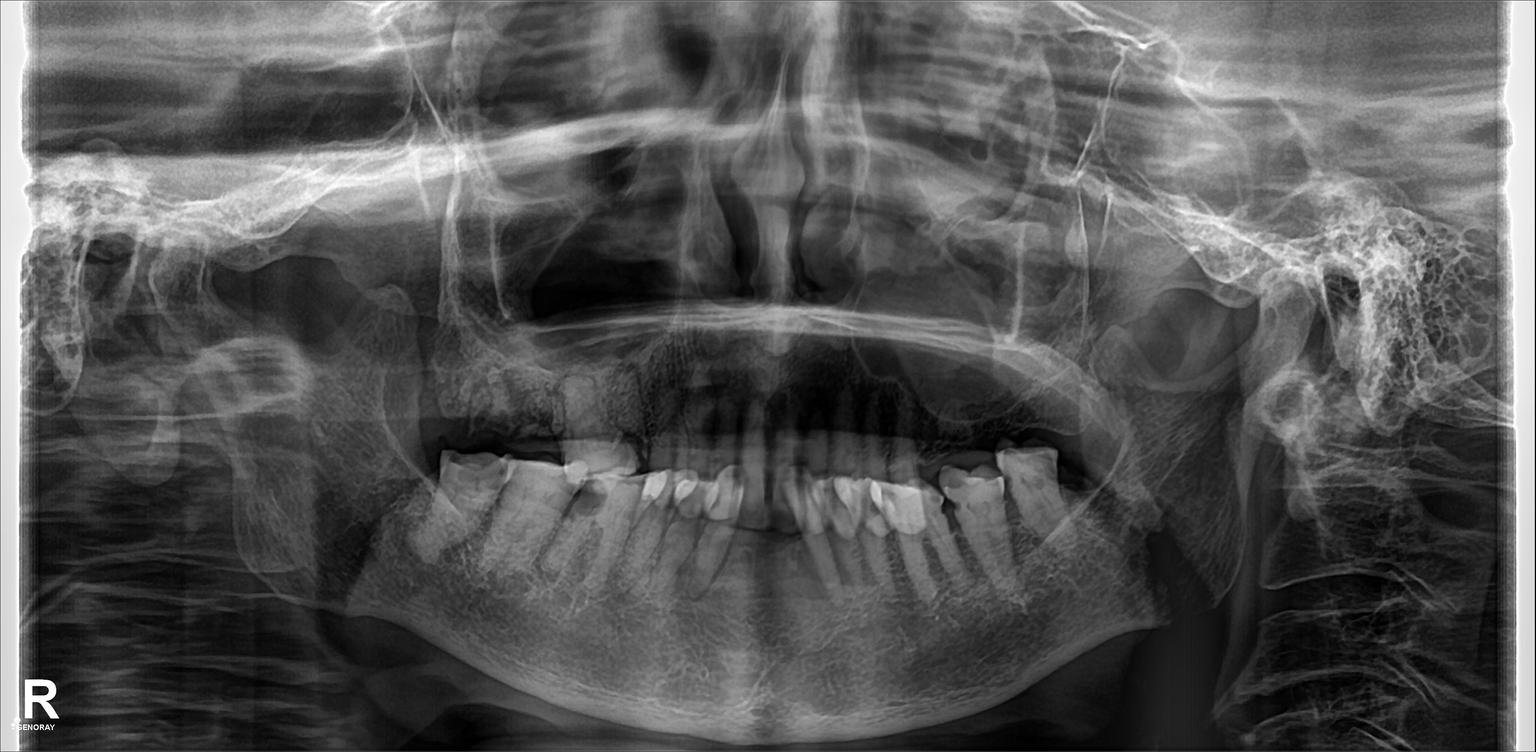Dental Caries: (566, 482, 609, 512)
Missing Tooth: (447, 374, 483, 439), (525, 389, 556, 453), (486, 382, 517, 442)
